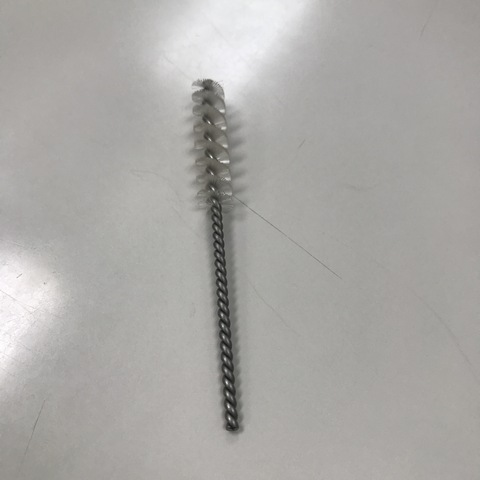Twist Brush-B: (186, 80, 282, 438)
